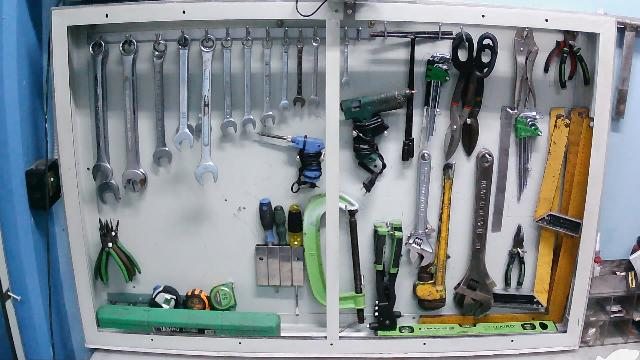meteran: (181, 285, 211, 315)
